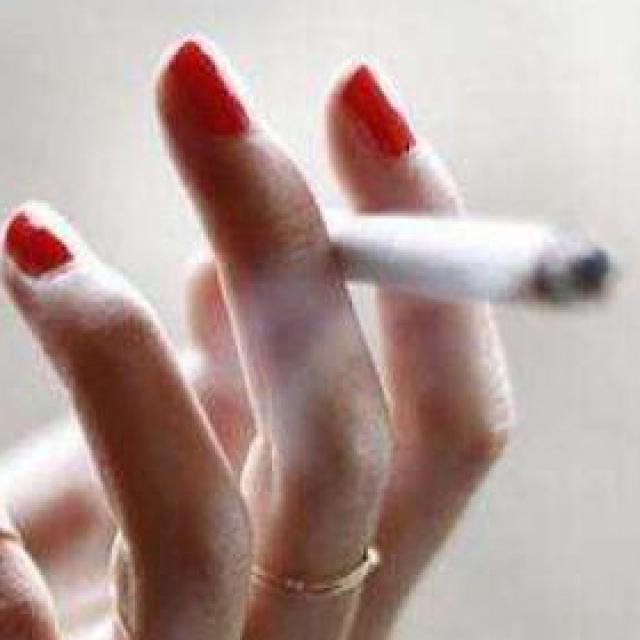smoking: (278, 212, 613, 304)
